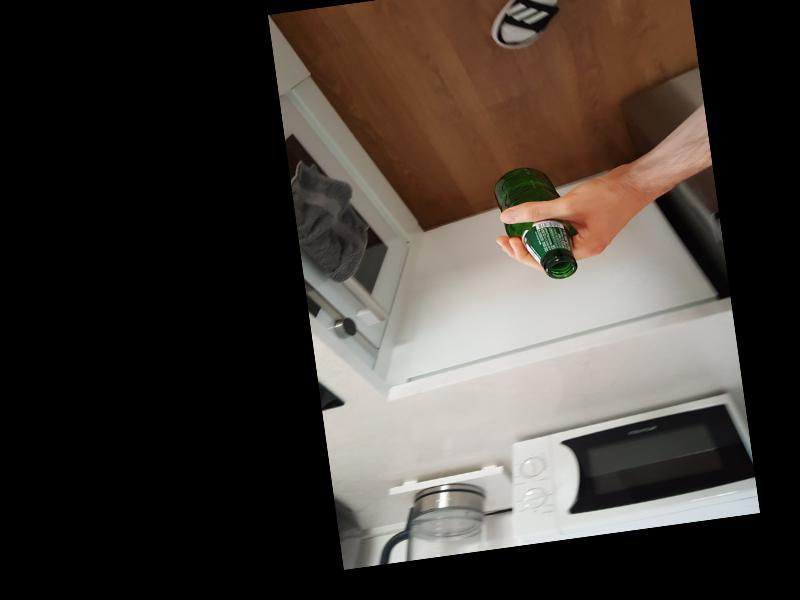Beer: (491, 161, 578, 284)
